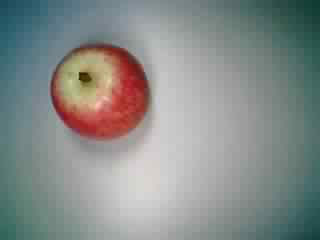apple: (47, 41, 151, 145)
